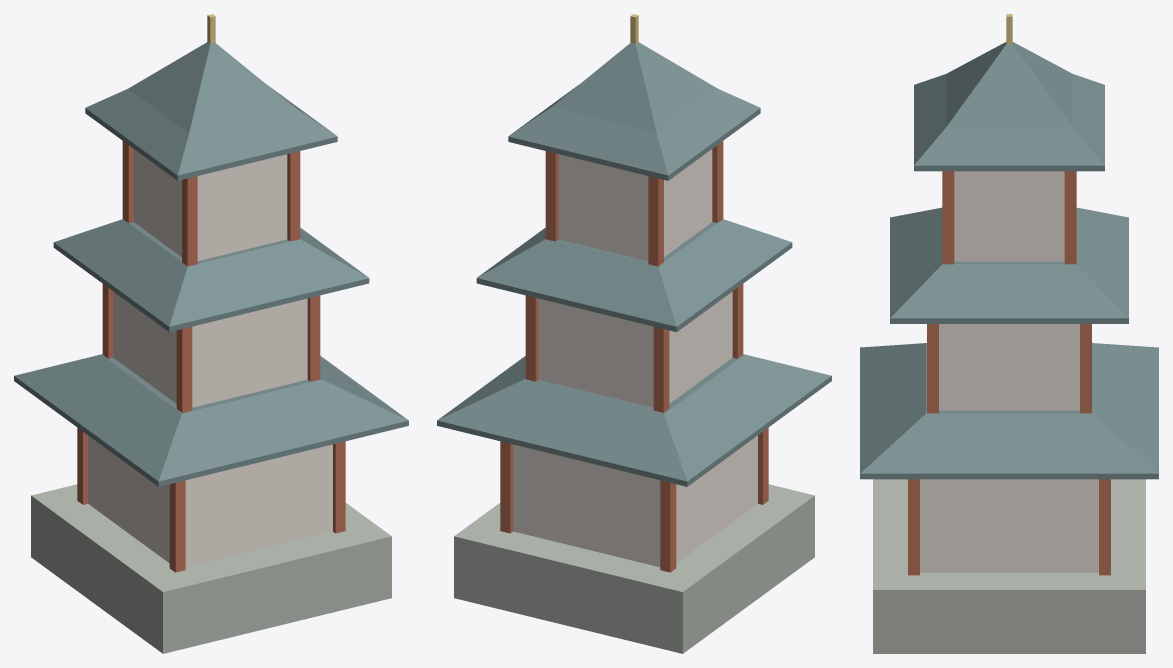
Rendered from tower_s1_01.glb.
3 renders of one model, left to right at view 1: azimuth 30°, elevation 25°; view 2: azimuth 150°, elevation 25°; view 3: azimuth 270°, elevation 25°, orthographic. The views are drawn at different scales.
Parts seen in each view (by area): view 1: part00, part04, part01, part02; view 2: part00, part04, part01, part02; view 3: part00, part04, part01, part02.
Boxes of the visible parts, x1,y1,x2,y2 form: part00: (14, 42, 408, 486); part04: (88, 149, 332, 566); part01: (31, 484, 391, 653); part02: (77, 141, 345, 572); part00: (437, 42, 831, 486); part04: (513, 149, 757, 566); part01: (454, 484, 814, 653); part02: (500, 141, 768, 572); part00: (860, 42, 1158, 479); part04: (920, 171, 1098, 572); part01: (873, 479, 1145, 653); part02: (908, 171, 1110, 575).
Bounding box in the file's own units: 8.77 × 18.81 × 8.77.
